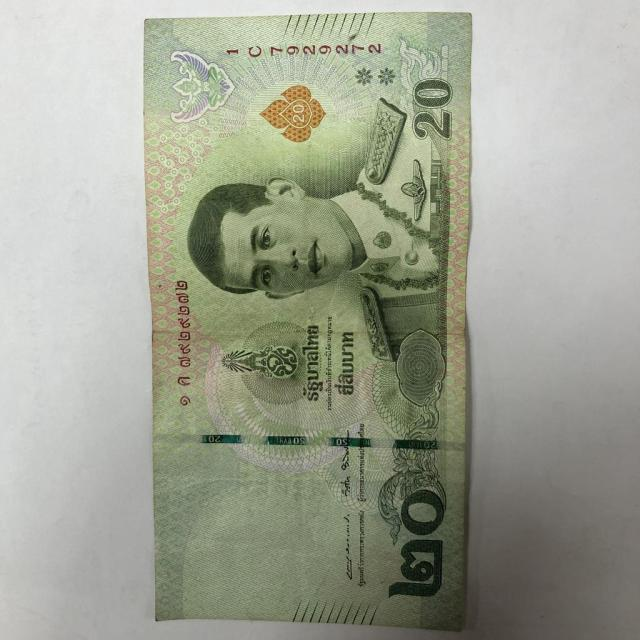THAI20: (142, 11, 481, 638)
